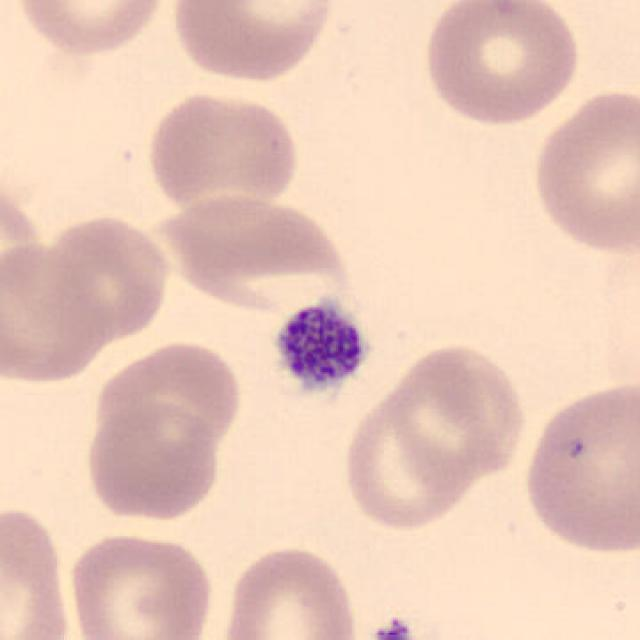Platelets: (269, 294, 375, 402), (364, 615, 422, 640)
RBC: (359, 337, 532, 497), (149, 187, 361, 317), (517, 374, 640, 559), (338, 372, 476, 532), (418, 0, 585, 129), (142, 86, 302, 215), (526, 83, 638, 259), (89, 336, 247, 456), (39, 210, 173, 347), (82, 400, 224, 524), (0, 234, 114, 388), (64, 527, 217, 640), (167, 0, 337, 86), (217, 541, 363, 640), (0, 500, 74, 640), (11, 0, 170, 58)
